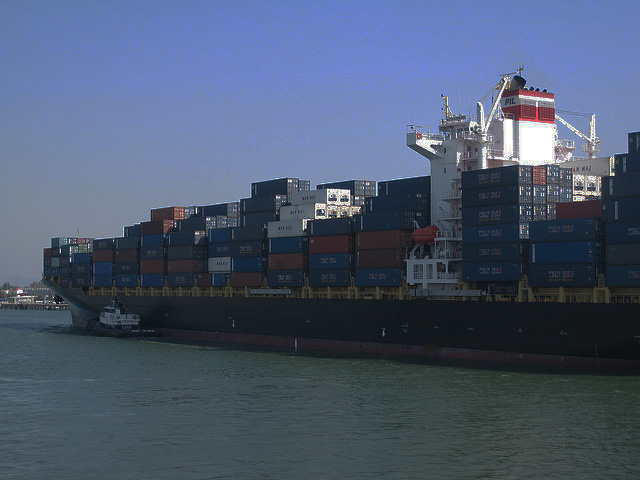container_ship: (39, 67, 639, 375)
tug_boat: (86, 294, 159, 339)
